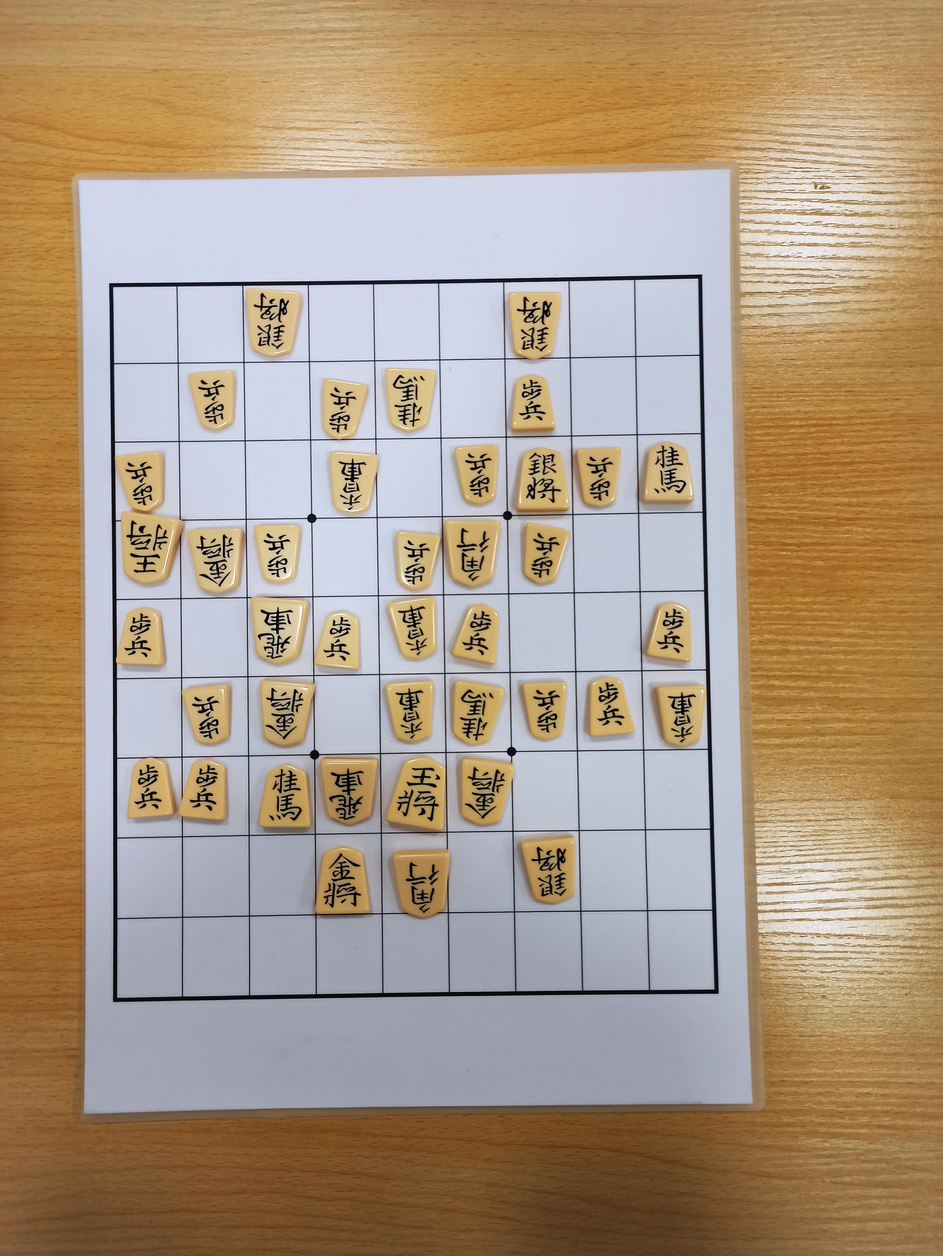board: (111, 277, 717, 1002)
